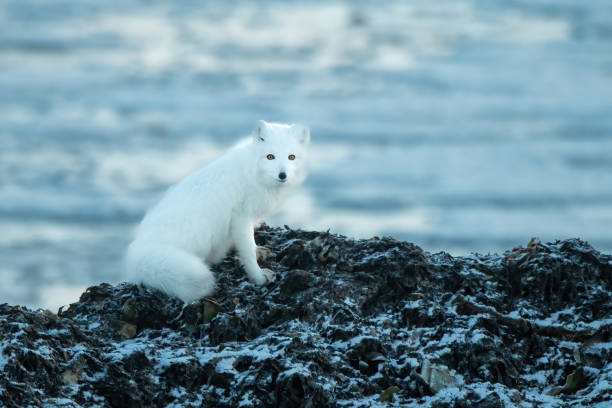arcticfox: (250, 131, 298, 195)
